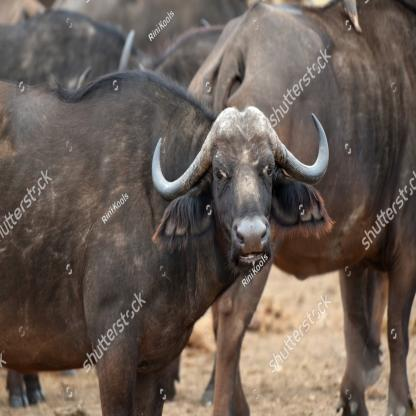buffalo: (0, 75, 329, 416), (200, 16, 416, 416)
